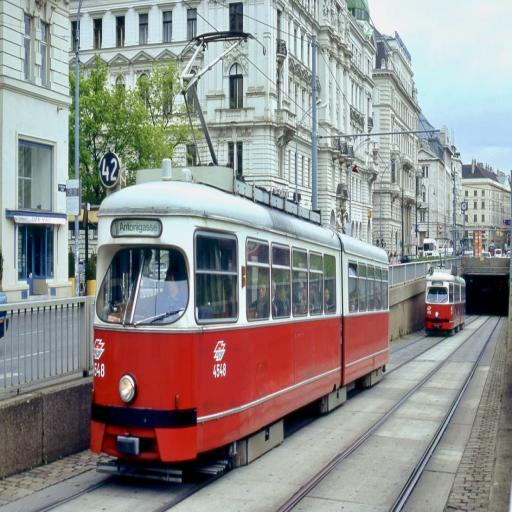E2-Tram: (88, 159, 390, 458), (425, 270, 466, 334)
